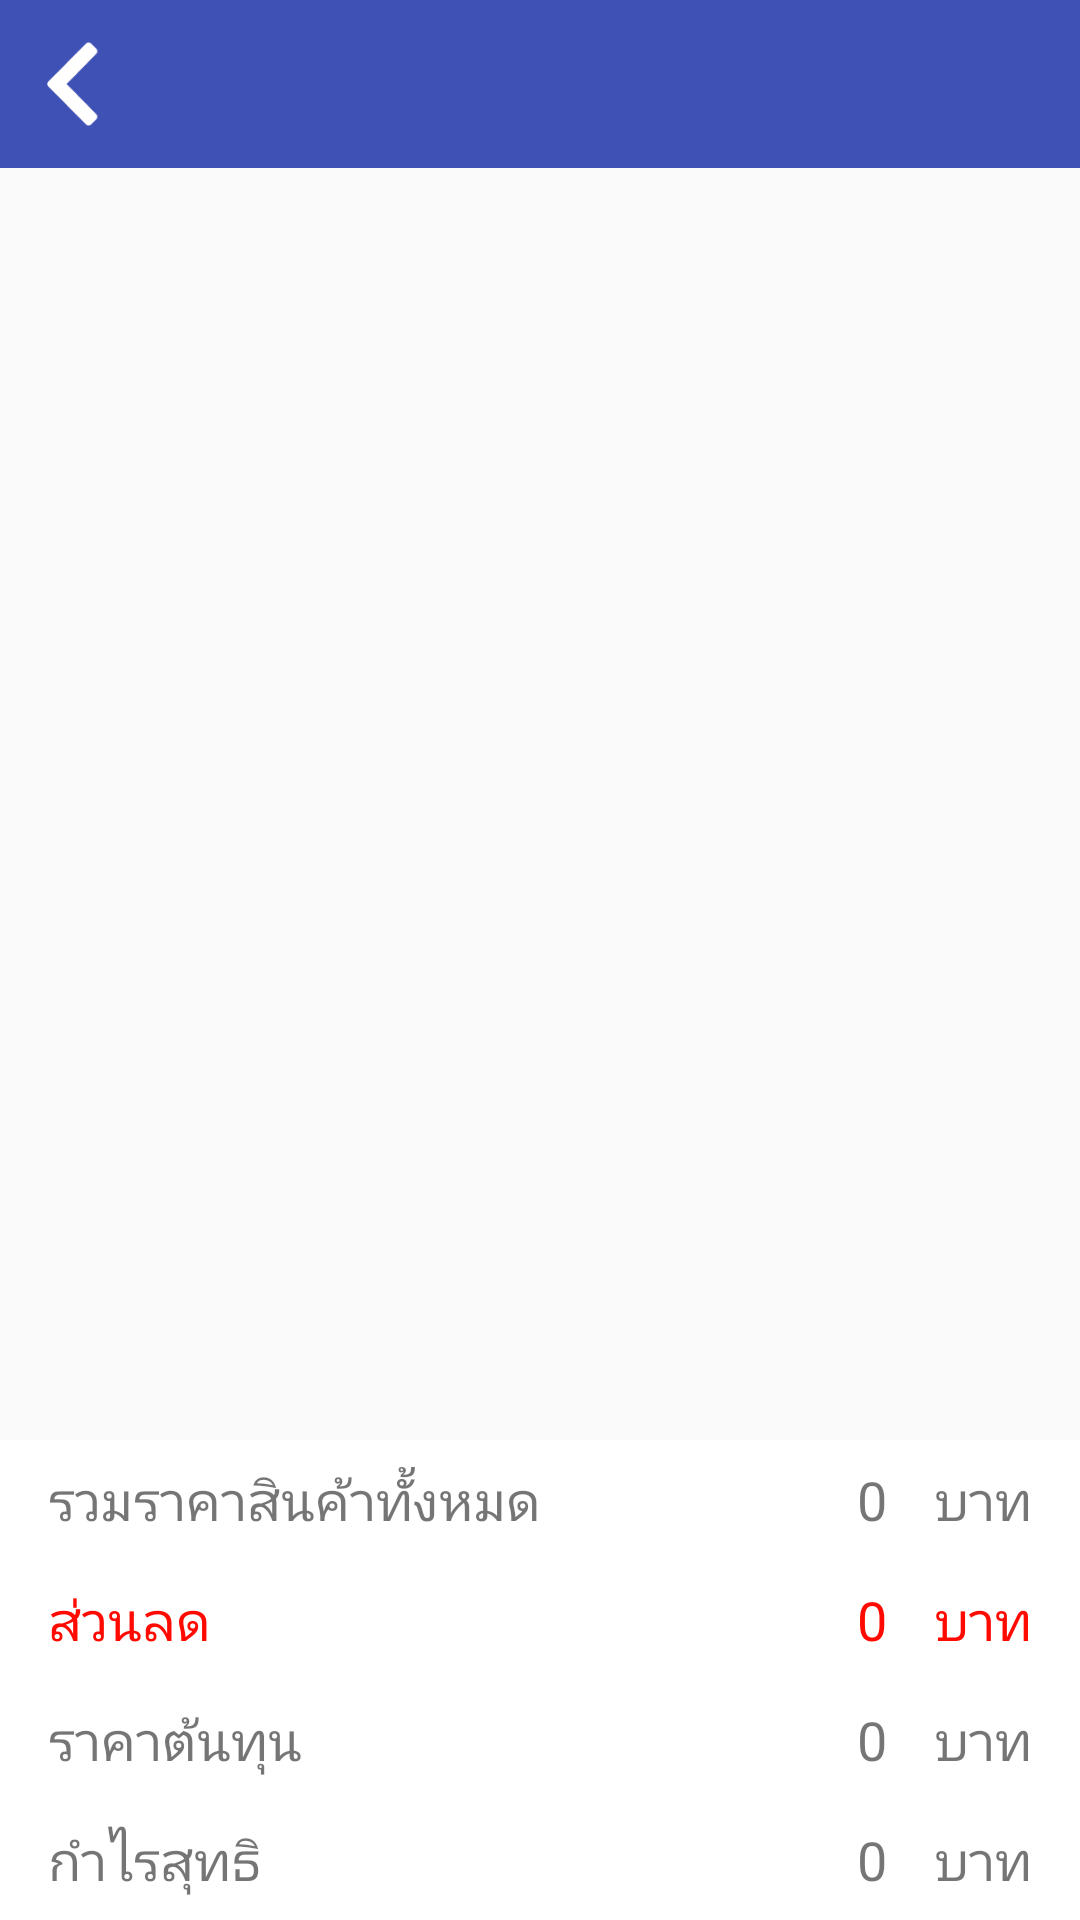

Icons on this 1080*1920 Android screen, each with its box as (x1,y1,x2,y2):
back: (47,42,98,126)
